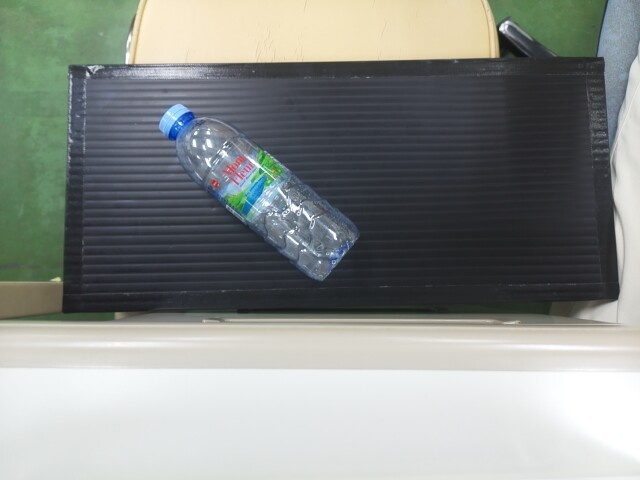plastic_bottle: (152, 93, 359, 278)
